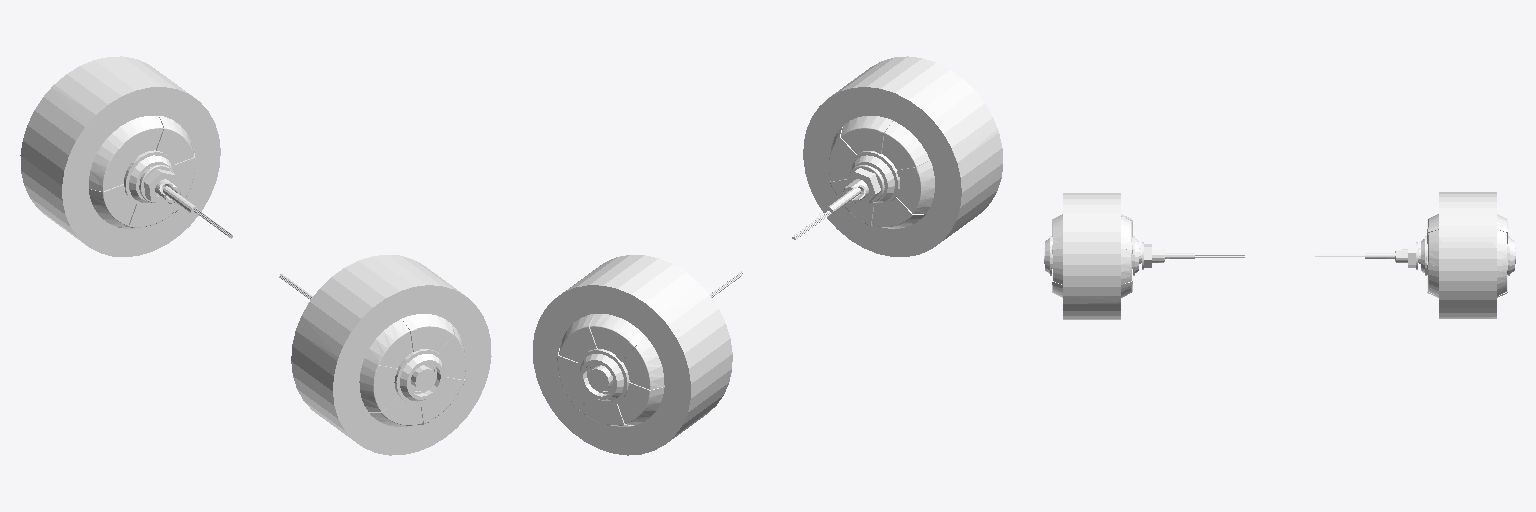
robot.urdf — ark:
<?xml version="1.0" encoding="utf-8"?>
<robot name="ark">

    <link name="base_link">
        <inertial>
            <origin xyz="0.00580539279039943 5.4419758433788E-05 0.112215557653382" rpy="0 0 0" />
            <mass value="26.7512057574245" />
            <inertia ixx="0.47672270420606" ixy="-8.73001936724861E-05" ixz="0.00097095491489387"
                    iyy="0.839799008589514" iyz="4.74506021615461E-06" izz="1.26047674146125" />
        </inertial>
        <visual>
            <origin xyz="0 0 0" rpy="0 0 0" />
            <geometry>
                <mesh filename="package://hex_toolkit_ark/urdf/meshes/base_link.STL" />
            </geometry>
            <material name="">
                <color rgba="1 1 1 1" />
            </material>
        </visual>
        <collision>
            <origin xyz="0 0 0" rpy="0 0 0" />
            <geometry>
                <mesh filename="package://hex_toolkit_ark/urdf/meshes/base_link.STL" />
            </geometry>
        </collision>
    </link>

    <link name="link_wheel1">
        <inertial>
            <origin xyz="3.36780857445179E-05 0.0281851848007152 -3.83541734502359E-05" rpy="0 0 0" />
            <mass value="0.872831722337804" />
            <inertia ixx="0.0011726540868096" ixy="7.11267690976707E-08" ixz="2.25232985969434E-08"
                     iyy="0.00161575183965107" iyz="-8.32726952566712E-08" izz="0.00117264063460171" />
        </inertial>
        <visual>
            <origin xyz="0 0 0" rpy="0 0 0" />
            <geometry>
                <mesh filename="package://hex_toolkit_ark/urdf/meshes/link_wheel1.STL" />
            </geometry>
            <material name="">
                <color rgba="1 1 1 1" />
            </material>
        </visual>
        <collision>
            <origin xyz="0 0 0" rpy="0 0 0" />
            <geometry>
                <mesh filename="package://hex_toolkit_ark/urdf/meshes/link_wheel1.STL" />
            </geometry>
        </collision>
    </link>
    <joint name="joint_wheel1" type="fixed">
        <origin xyz="0 0.1599 0.064" rpy="0 0 0" />
        <parent link="base_link" />
        <child link="link_wheel1" />
    </joint>

    <link name="link_wheel2">
        <inertial>
            <origin xyz="4.59932124352927E-05 -0.0281851848007151 -2.21332440088215E-05" rpy="0 0 0" />
            <mass value="0.872831722337807" />
            <inertia ixx="0.00117262994660283" ixy="-9.93225431821341E-08" ixz="1.5788871923159E-08"
                    iyy="0.00161575183965107" iyz="4.61344933168278E-08" izz="0.00117266477480849" />
        </inertial>
        <visual>
            <origin xyz="0 0 0" rpy="0 0 0" />
            <geometry>
                <mesh filename="package://hex_toolkit_ark/urdf/meshes/link_wheel2.STL" />
            </geometry>
            <material name="">
                <color rgba="1 1 1 1" />
            </material>
        </visual>
        <collision>
            <origin xyz="0 0 0" rpy="0 0 0" />
            <geometry>
                <mesh filename="package://hex_toolkit_ark/urdf/meshes/link_wheel2.STL" />
            </geometry>
        </collision>
    </link>
    <joint name="joint_wheel2" type="fixed">
        <origin xyz="0 -0.1599 0.064" rpy="0 0 0" />
        <parent link="base_link" />
        <child link="link_wheel2" />
    </joint>

</robot>

--- Facts derived from the render (not from the file) ---
3 views of the same robot in one strip: view 1: azimuth 30°, elevation 25°; view 2: azimuth 150°, elevation 25°; view 3: azimuth 270°, elevation 25° (orthographic).
Robot: ark — 3 links, 2 joints (2 fixed); root link base_link; default pose: all joints at 0.
Visible links, largest first — view 1: link_wheel2, link_wheel1; view 2: link_wheel2, link_wheel1; view 3: link_wheel1, link_wheel2.
Link boxes in pixels (x1,y1,x2,y2): link_wheel2: (279,255,491,455); link_wheel1: (20,56,232,256); link_wheel2: (792,56,1002,256); link_wheel1: (533,255,743,455); link_wheel1: (1315,192,1515,318); link_wheel2: (1044,193,1244,319).
Size in the robot's own frame: 0.128 by 0.474 by 0.128 metres.
2 mesh visuals loaded from 3 distinct referenced files (2 binary STL); not drawn: 1 (reference not matched to a file when rendering).